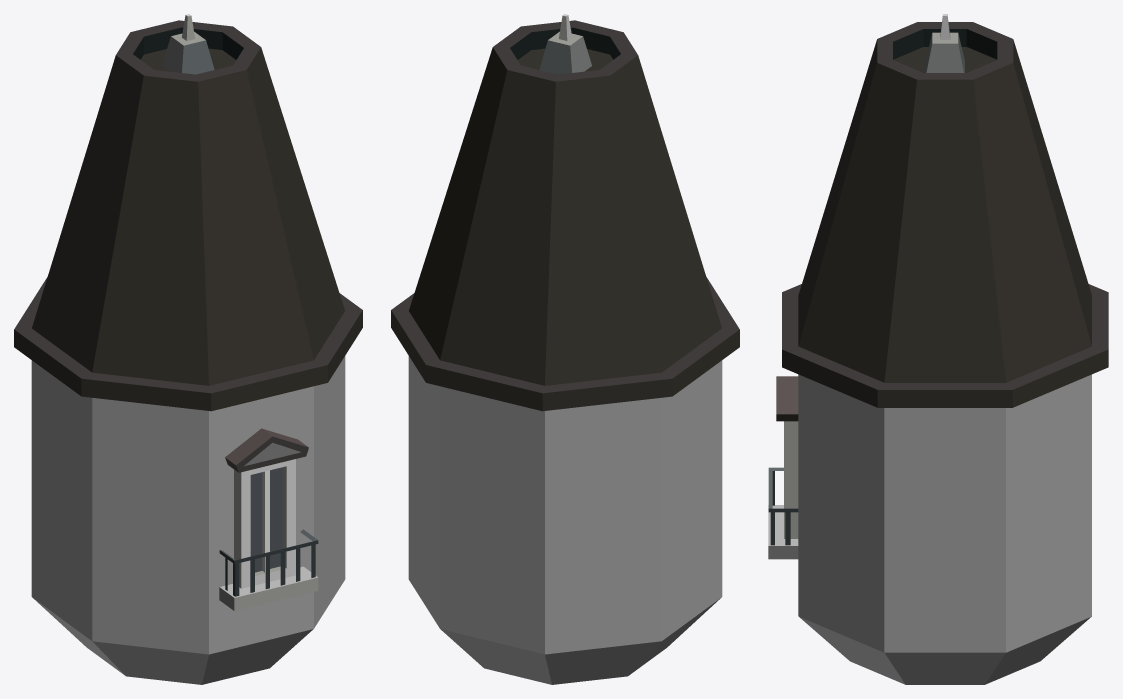
The model's file is TB_CITY_BD_Part_RT_D.FBX.
The picture shows the model from 3 angles, left to right: view 1: azimuth 30°, elevation 25°; view 2: azimuth 150°, elevation 25°; view 3: azimuth 270°, elevation 25°; orthographic projection.
Visible parts, largest first — view 1: TB_CITY_BD_Part_RT_D; view 2: TB_CITY_BD_Part_RT_D; view 3: TB_CITY_BD_Part_RT_D.
Boxes of the visible parts, bbox=[...] form: TB_CITY_BD_Part_RT_D: bbox=[14, 14, 362, 684]; TB_CITY_BD_Part_RT_D: bbox=[391, 14, 739, 684]; TB_CITY_BD_Part_RT_D: bbox=[768, 14, 1108, 684].
Bounding box in the file's own units: 6.57 × 13.98 × 6.84.
